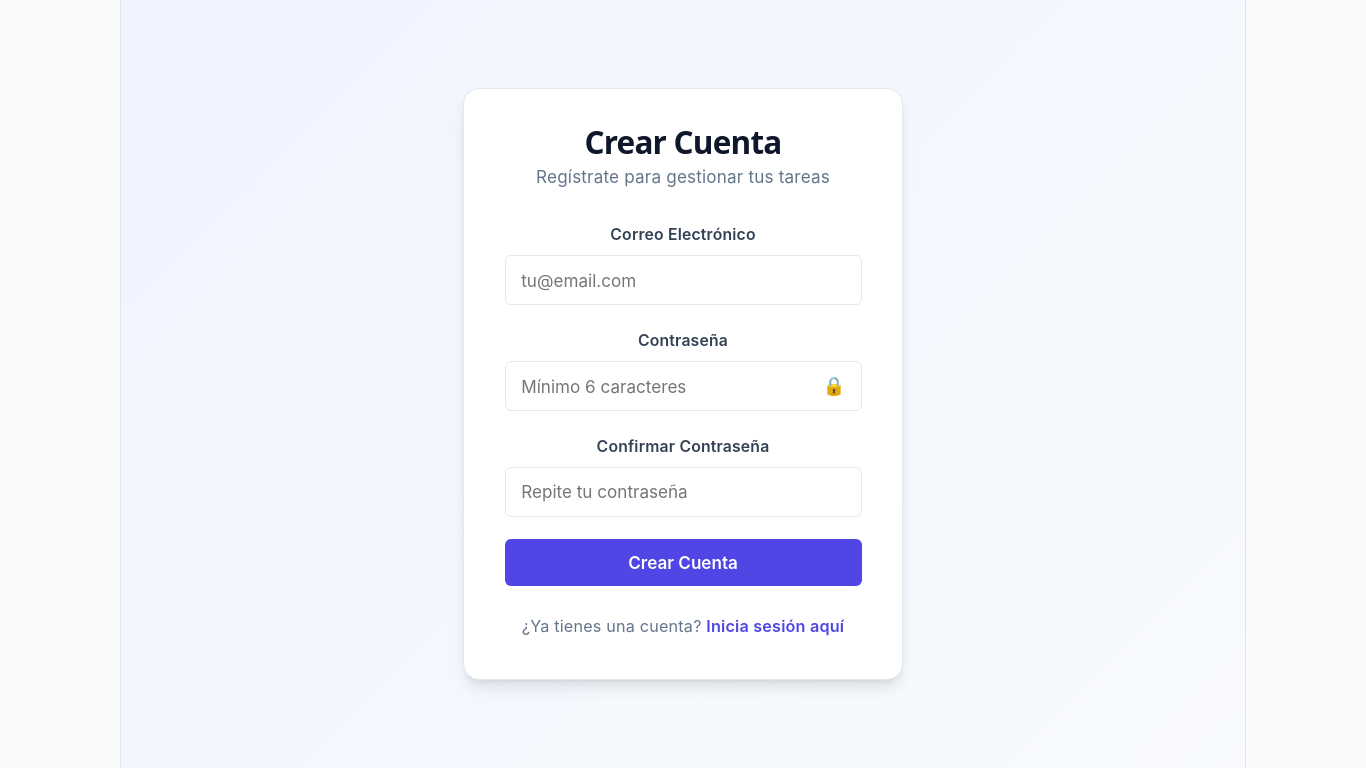
Scenario: Register Page › muestra un error si las contraseñas no coinciden
Type "user@example.com" into the field labelled "Correo Electrónico".
click(683, 280); type("user@example.com")  # box top-left (504, 255), bottom-right (862, 305)
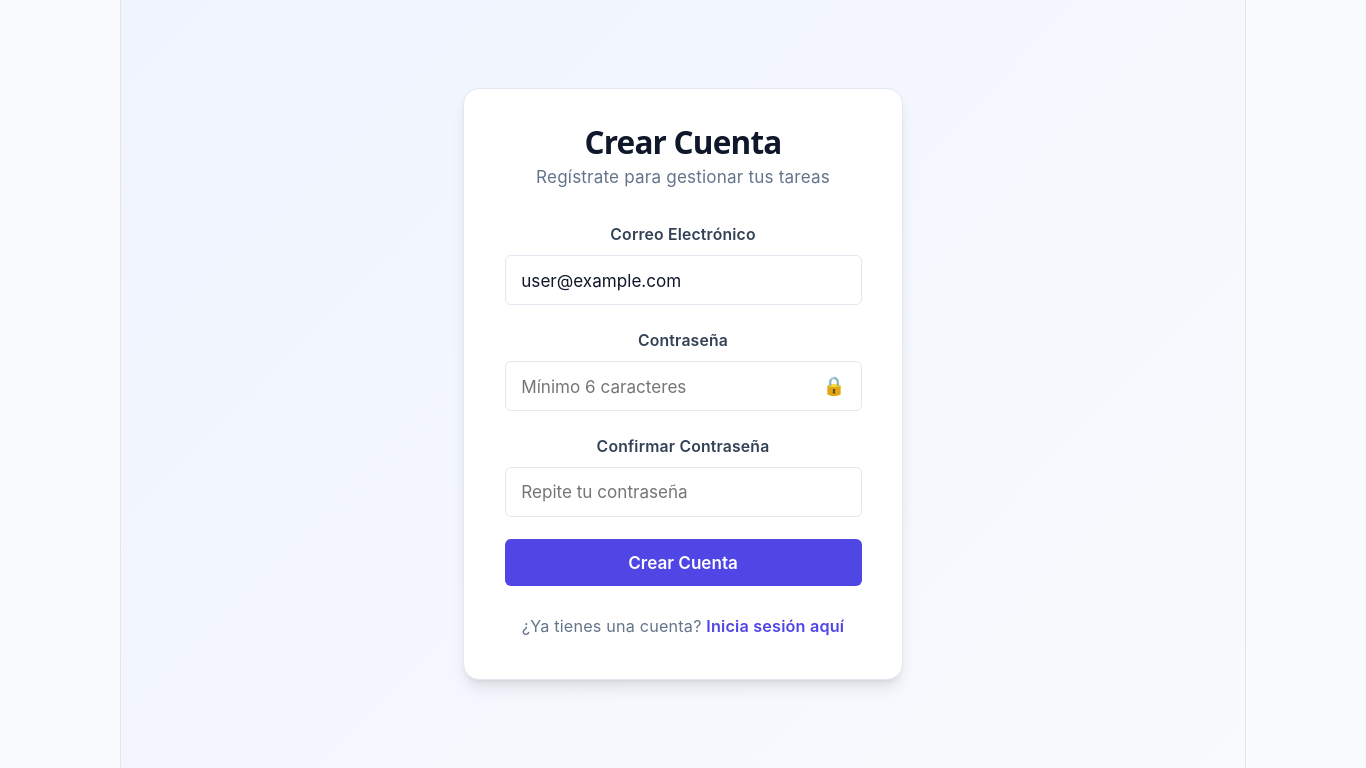
Type "password123" into the password field labelled "Contraseña".
click(683, 386); type("password123")  # box top-left (504, 361), bottom-right (862, 411)
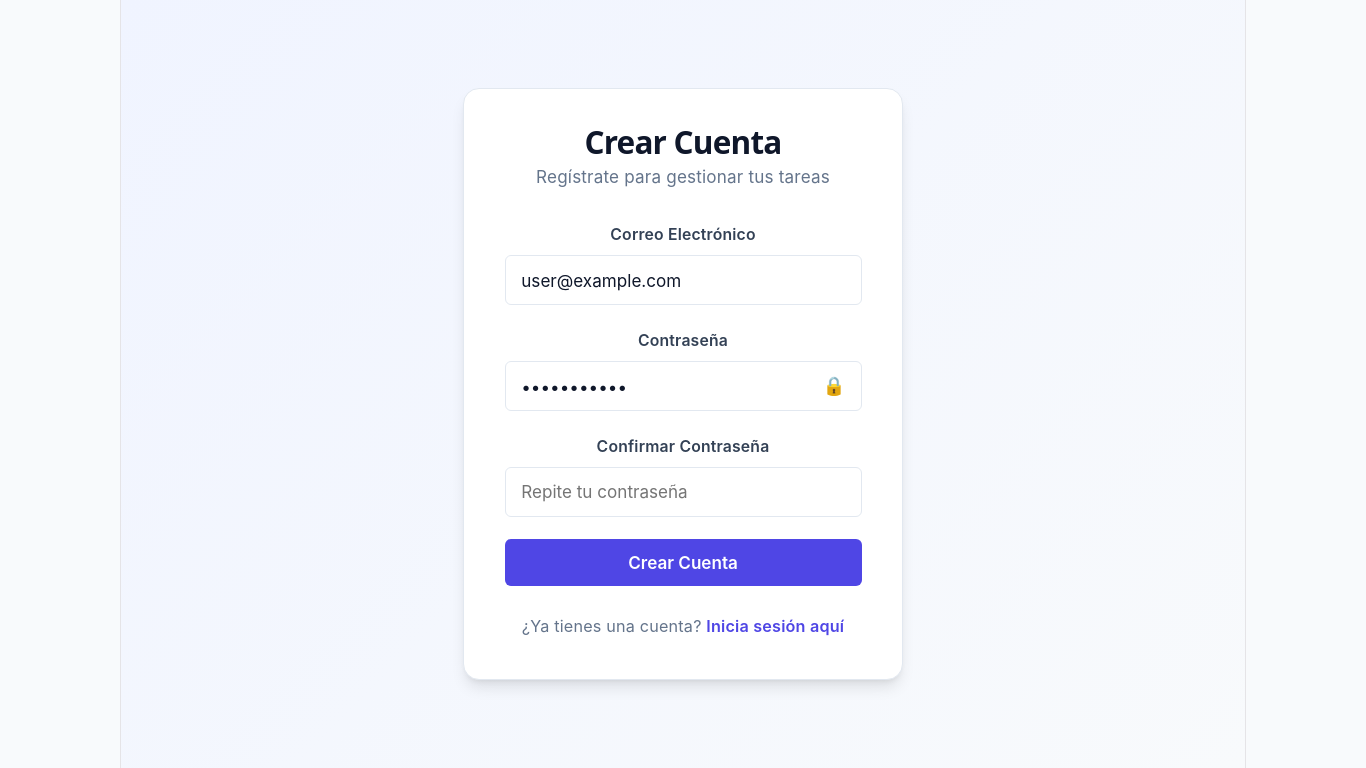
Type "different123" into the password field labelled "Confirmar Contraseña".
click(683, 492); type("different123")  # box top-left (504, 467), bottom-right (862, 517)
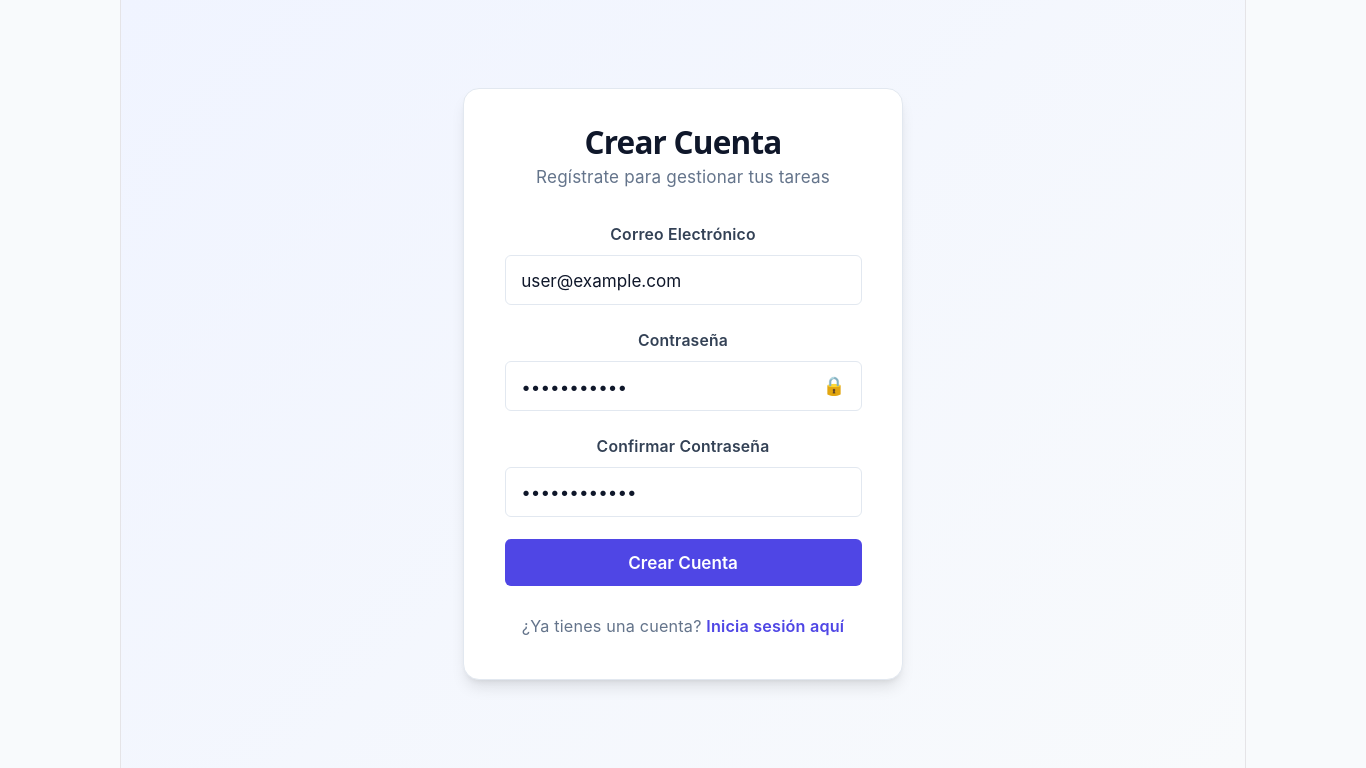
Click the button "Crear Cuenta".
click(683, 562)  # box top-left (504, 539), bottom-right (862, 586)
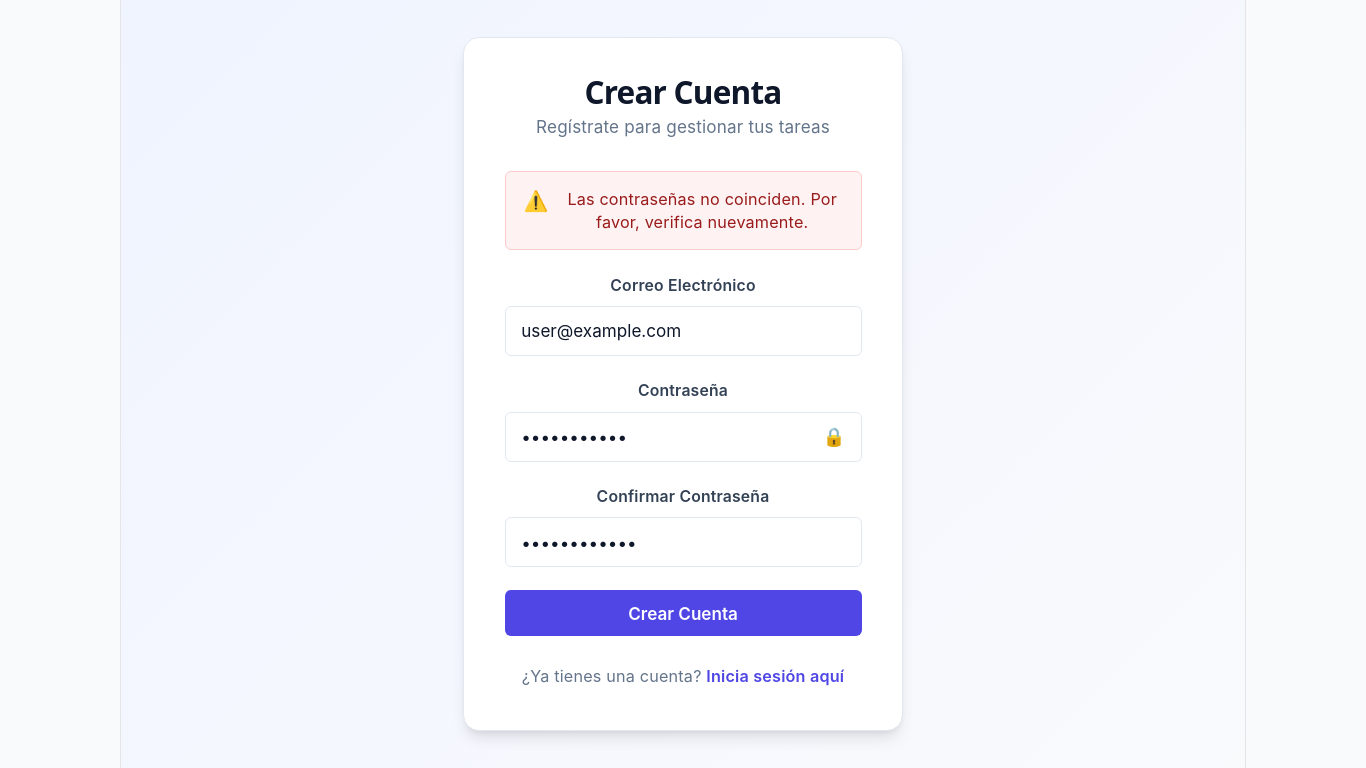
Check: the message shows "Las contraseñas no coinciden. Por favor, verifica nuevamente.", box top-left (567, 189), bottom-right (837, 232)
